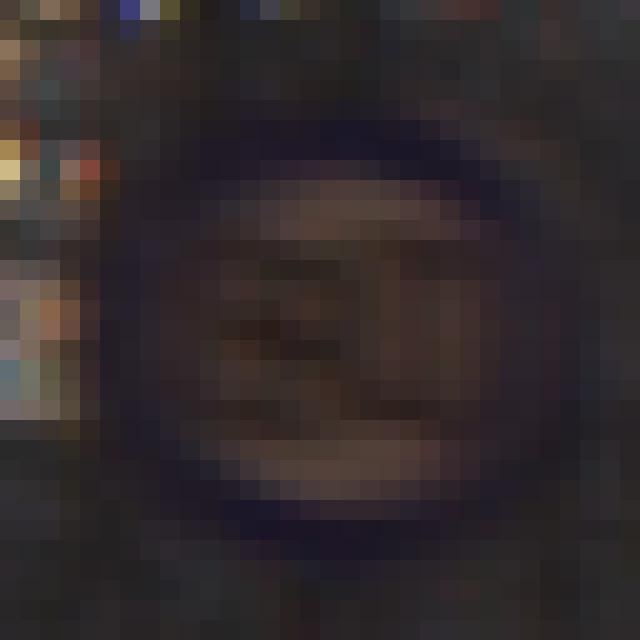SPEED-LIMIT-80: (128, 123, 556, 535)
